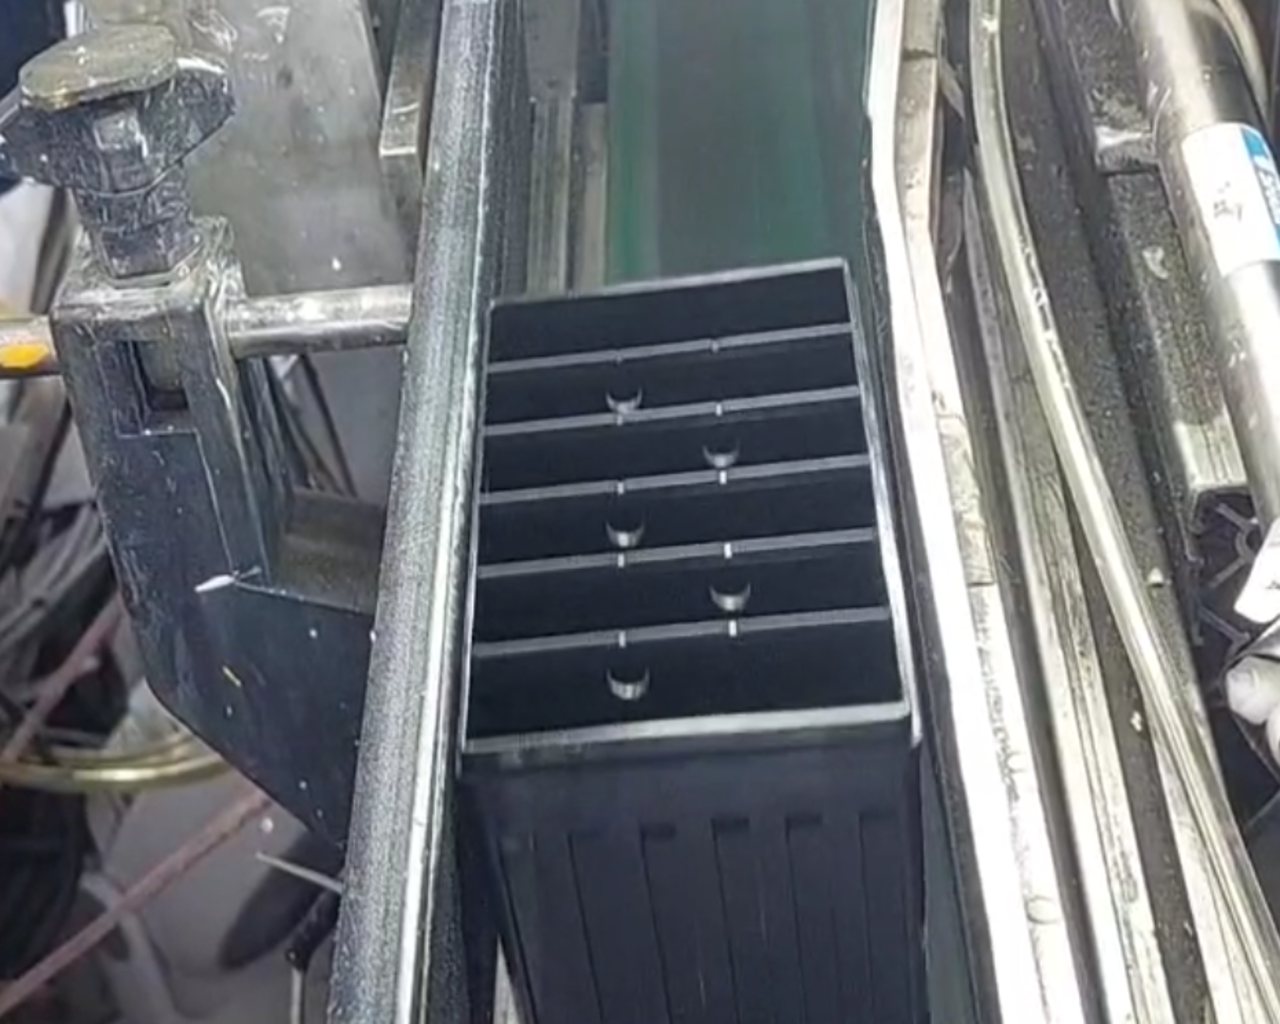box: (445, 248, 937, 792)
round: (690, 419, 755, 476), (594, 654, 661, 708), (697, 561, 762, 616), (594, 498, 657, 554), (599, 360, 649, 419)
